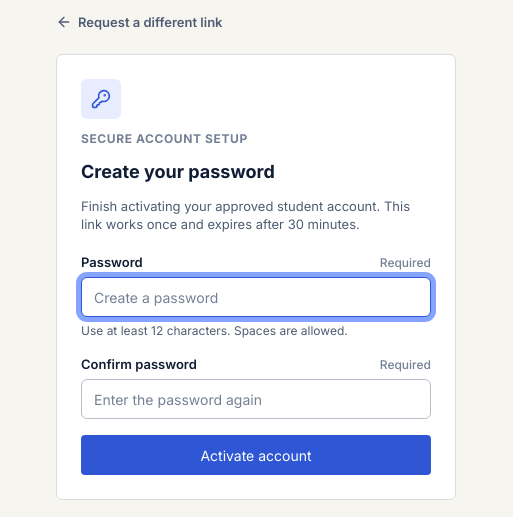
Test case: student activation password setup › shows one safe recovery state for an unavailable token
The width and height of the screenshot is (513, 517).
Type "long secure password" into the password field labelled "Password". click: (256, 297)
box: [81,277,431,317]
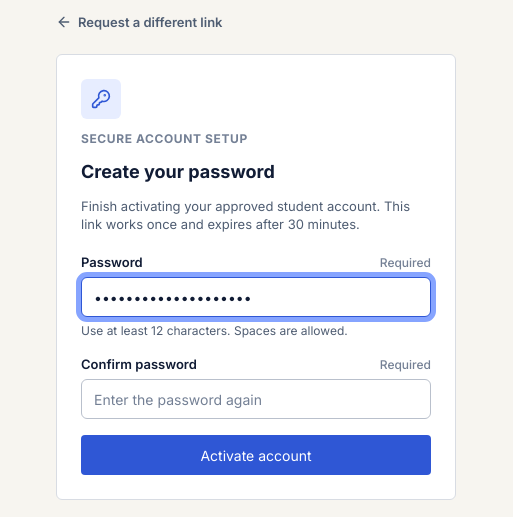
Type "long secure password" into the password field labelled "Confirm password". click: (256, 399)
box: [81,379,431,419]
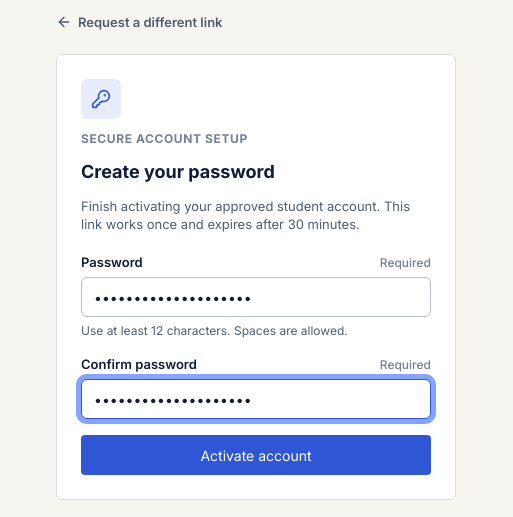
Click the button "Activate account". click: (256, 455)
box: [81,435,431,475]
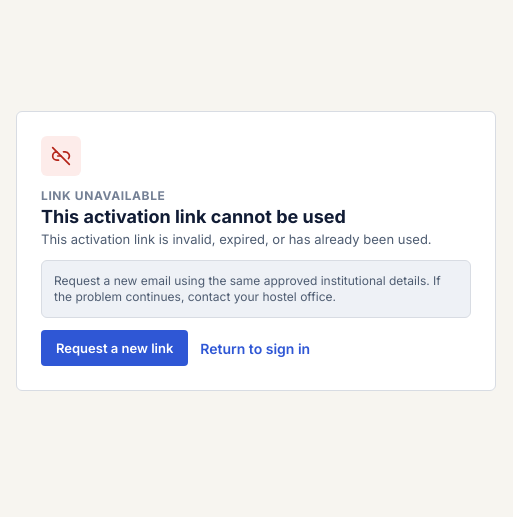
Result: the message shows "invalid, expired, or has already been used" at [41,231,432,247]
